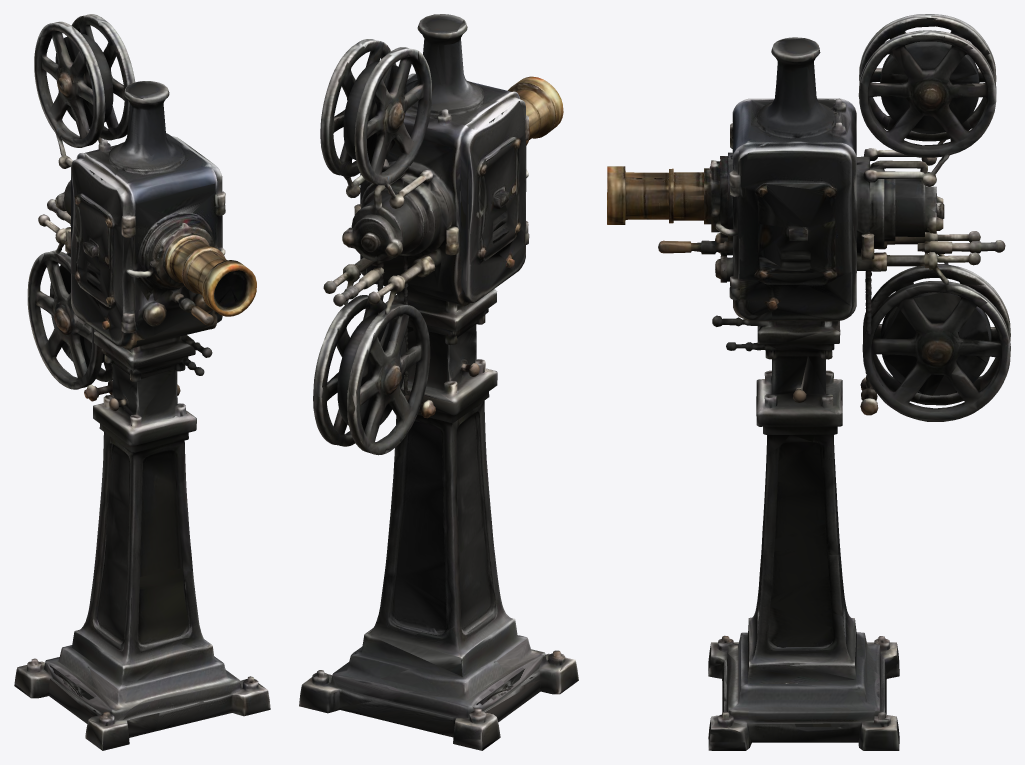
File: egy-projector.glb
3 renders of one model, left to right at view 1: azimuth 30°, elevation 25°; view 2: azimuth 150°, elevation 25°; view 3: azimuth 270°, elevation 25°, orthographic. The views are drawn at different scales.
Visible parts, largest first — view 1: model; view 2: model; view 3: model.
Part boxes in pixels (<box>): model: <box>14,14,270,750</box>; model: <box>299,14,578,750</box>; model: <box>607,14,1010,750</box>.
Bounding box in the file's own units: 0.5302 × 1.9 × 1.02.
1 material, 1 textured.
